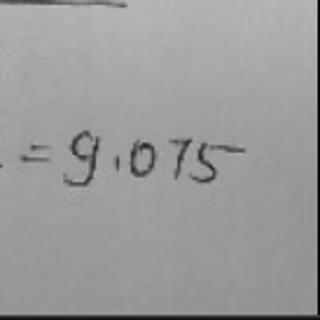.: (111, 150, 123, 176)
0: (128, 140, 157, 180)
5: (195, 138, 244, 185)
7: (166, 135, 192, 181)
9: (62, 130, 101, 192)
